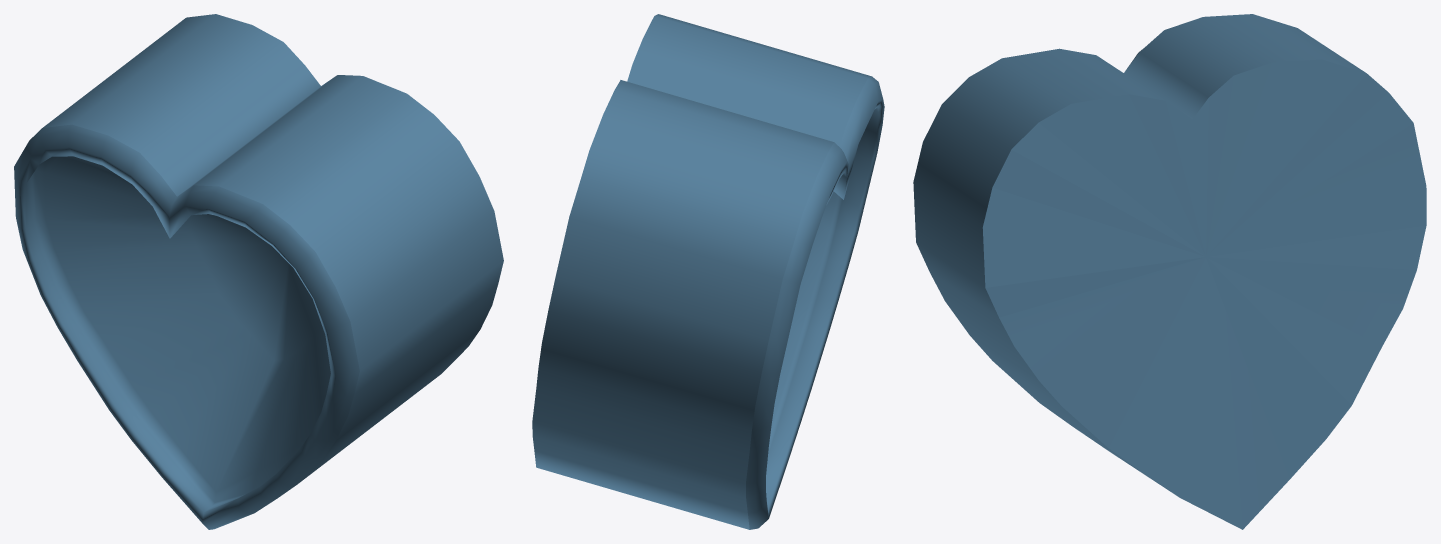
Rendered from TL5_8shapes_heart_Classic_Metal.001 3.glb.
3 views of the same model, side by side, from view 1: azimuth 30°, elevation 25°; view 2: azimuth 150°, elevation 25°; view 3: azimuth 270°, elevation 25° (orthographic). The views are drawn at different scales.
Parts seen in each view (by area): view 1: TL5_8shapes_heart_Classic_Metal.001; view 2: TL5_8shapes_heart_Classic_Metal.001; view 3: TL5_8shapes_heart_Classic_Metal.001.
Boxes of the visible parts, left/top/right/bottom form: TL5_8shapes_heart_Classic_Metal.001: left=14, top=14, right=503, bottom=529; TL5_8shapes_heart_Classic_Metal.001: left=532, top=14, right=884, bottom=529; TL5_8shapes_heart_Classic_Metal.001: left=913, top=14, right=1426, bottom=529.
Bounding box in the file's own units: 0.4298 × 0.567 × 0.5665.
